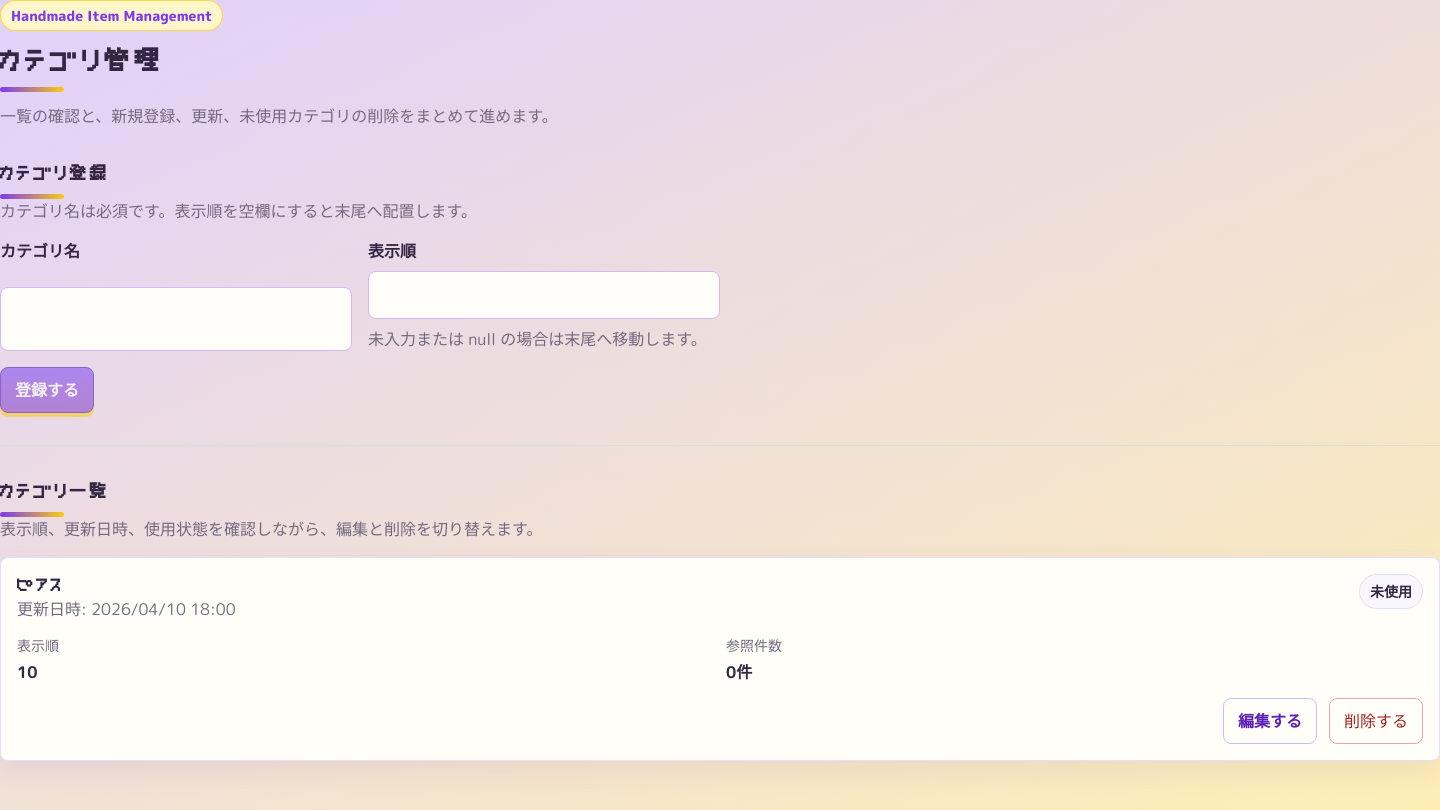
Test: CategoryManagementPage › opens the delete confirmation dialog and deletes an unused category
The image size is (1440, 810).
Click the button "削除する" at [1376, 721], box [1329,698,1423,744]
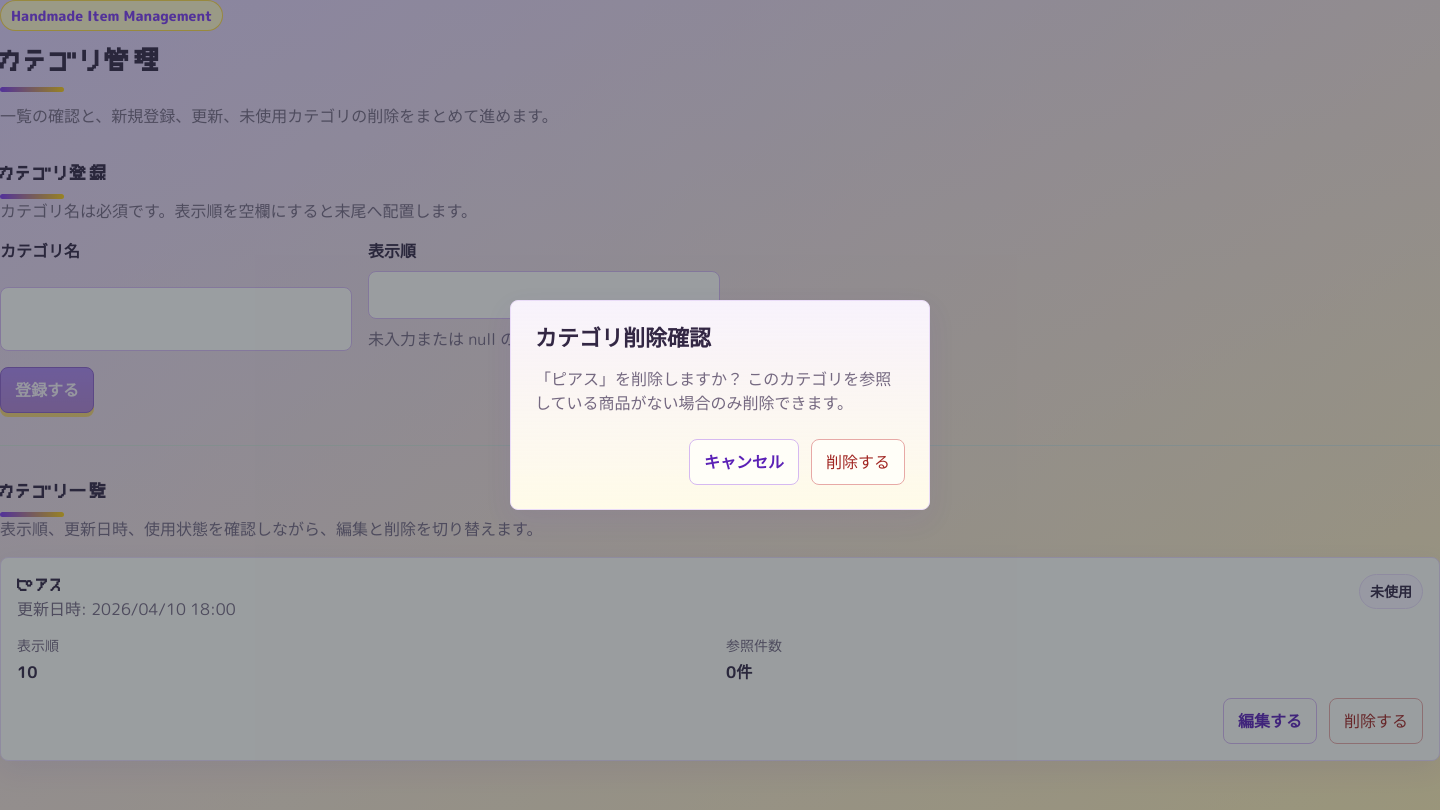
expect the text "「ピアス」を削除しますか？ このカテゴリを参照している商品がない場合のみ削除できます。" is shown: met, box [535,367,905,415]
Click the button "削除する" at [858, 462], box [811,439,905,485]
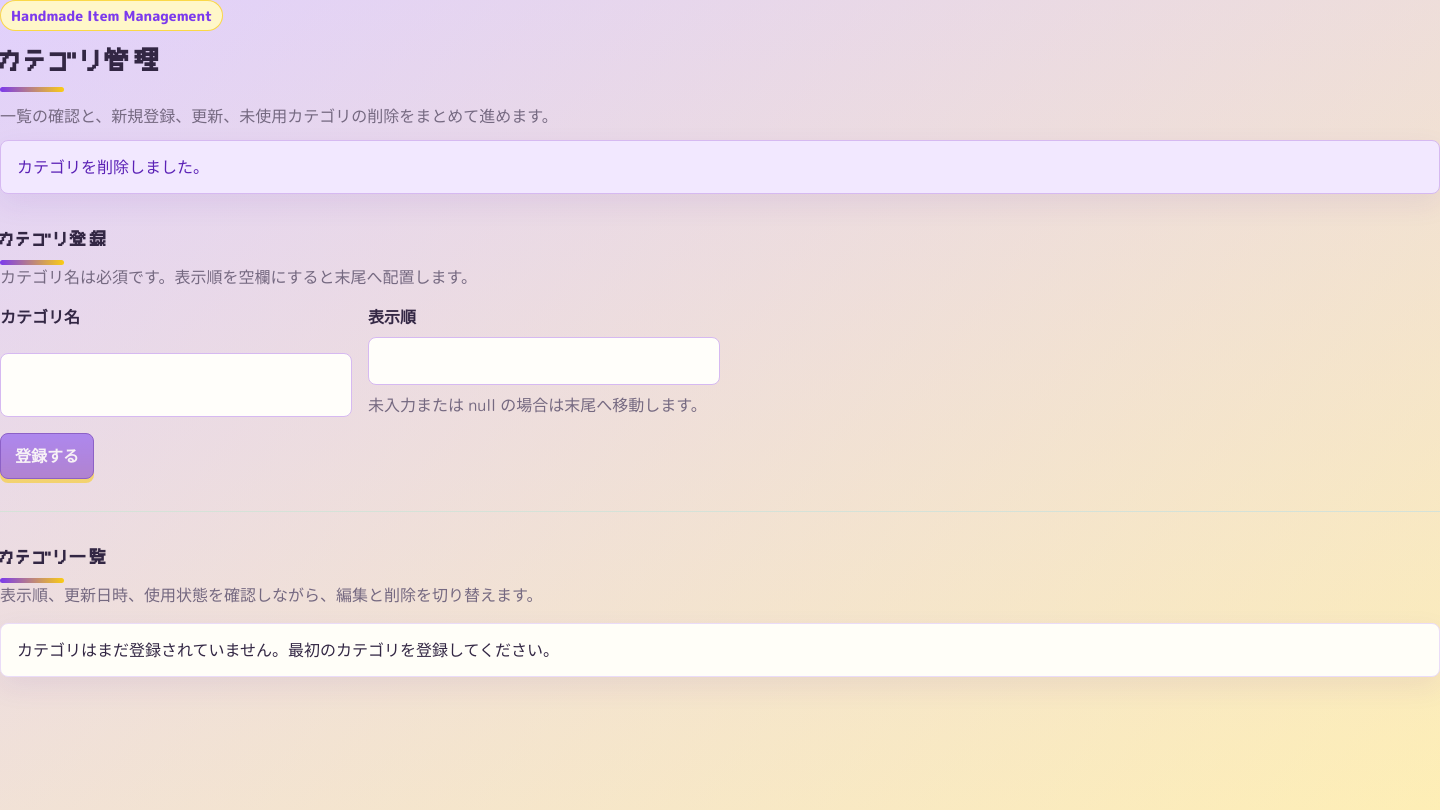
expect the text "カテゴリを削除しました。" is shown: met, box [17,156,209,178]
expect the text "カテゴリはまだ登録されていません。最初のカテゴリを登録してください。" is shown: met, box [17,639,559,661]
